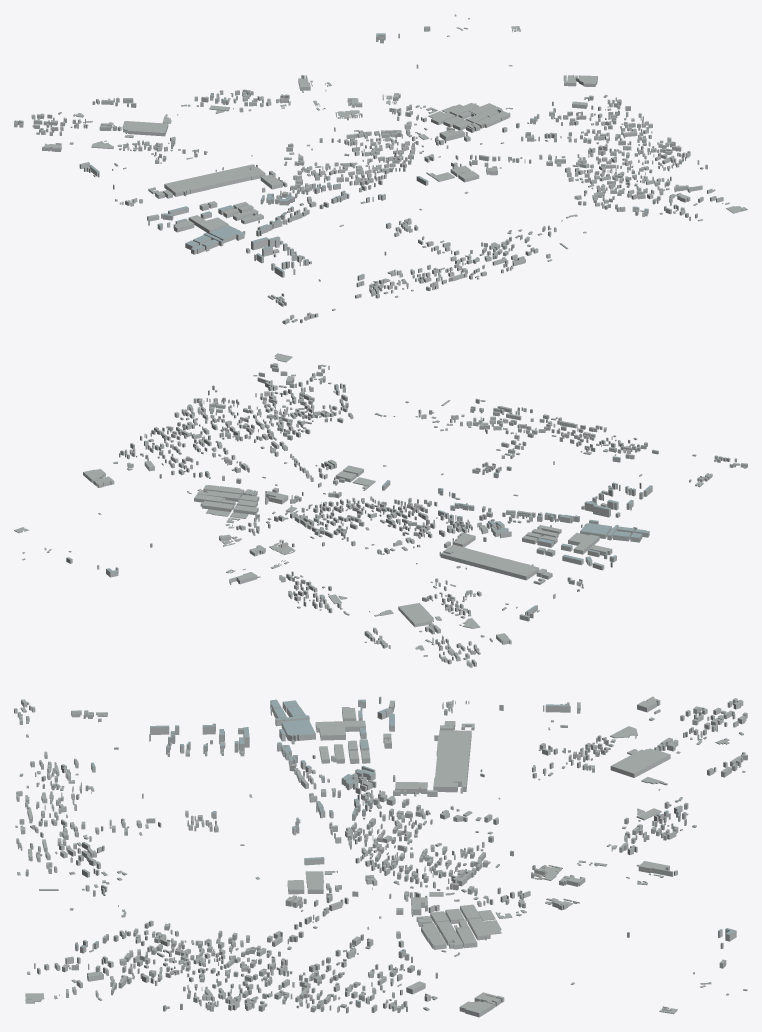
Rendered from far.glb.
3 renders of one model, top to bottom at view 1: azimuth 30°, elevation 25°; view 2: azimuth 150°, elevation 25°; view 3: azimuth 270°, elevation 25°, orthographic. The views are drawn at different scales.
Size of the model in its own units: 2143 by 32.7 by 2102.
